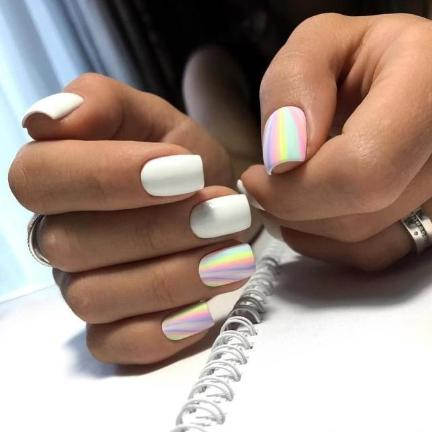Nail: (263, 106, 307, 174), (190, 194, 252, 239), (140, 155, 204, 196), (199, 243, 255, 287), (162, 302, 215, 340), (24, 92, 84, 120)
